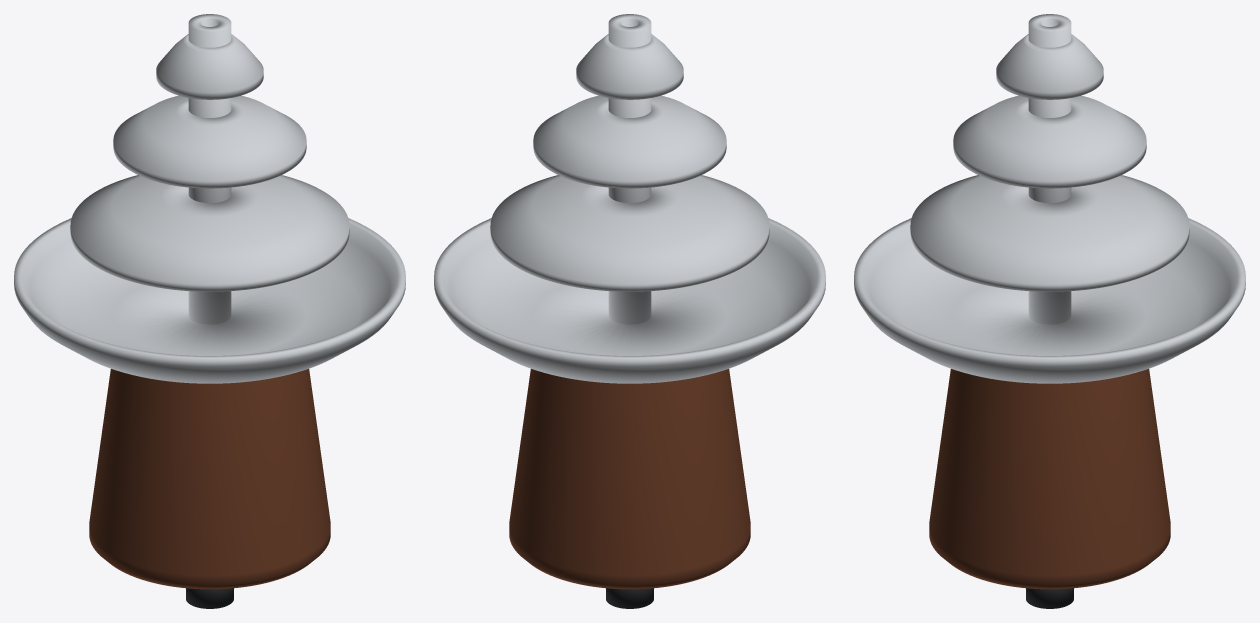
Rendered from full.glb.
The picture shows the model from 3 angles, left to right: view 1: azimuth 30°, elevation 25°; view 2: azimuth 150°, elevation 25°; view 3: azimuth 270°, elevation 25°; orthographic projection.
Visible parts, largest first — view 1: Tapered motor pedestal, Shallow open collection bowl, Lower cascade dome tier, Middle cascade dome tier, Upper cascade dome tier, Continuous hollow central neck, Small foot 2; view 2: Tapered motor pedestal, Shallow open collection bowl, Lower cascade dome tier, Middle cascade dome tier, Upper cascade dome tier, Continuous hollow central neck, Small foot 1; view 3: Tapered motor pedestal, Shallow open collection bowl, Lower cascade dome tier, Middle cascade dome tier, Upper cascade dome tier, Continuous hollow central neck, Small foot 0.
Boxes of the visible parts, <box> form: Tapered motor pedestal: <box>89,369,330,589</box>; Shallow open collection bowl: <box>14,218,405,383</box>; Lower cascade dome tier: <box>70,175,349,291</box>; Middle cascade dome tier: <box>113,95,306,188</box>; Upper cascade dome tier: <box>156,34,263,99</box>; Continuous hollow central neck: <box>188,14,231,324</box>; Small foot 2: <box>186,588,233,608</box>; Tapered motor pedestal: <box>509,369,750,589</box>; Shallow open collection bowl: <box>434,218,825,383</box>; Lower cascade dome tier: <box>490,175,769,291</box>; Middle cascade dome tier: <box>533,95,726,188</box>; Upper cascade dome tier: <box>576,34,683,99</box>; Continuous hollow central neck: <box>608,14,651,324</box>; Small foot 1: <box>606,588,653,608</box>; Tapered motor pedestal: <box>929,369,1170,589</box>; Shallow open collection bowl: <box>854,218,1245,383</box>; Lower cascade dome tier: <box>910,175,1189,291</box>; Middle cascade dome tier: <box>953,95,1146,188</box>; Upper cascade dome tier: <box>996,34,1103,99</box>; Continuous hollow central neck: <box>1028,14,1071,324</box>; Small foot 0: <box>1026,588,1073,608</box>.
Bounding box in the file's own units: 0.1461 × 0.2222 × 0.1461.
